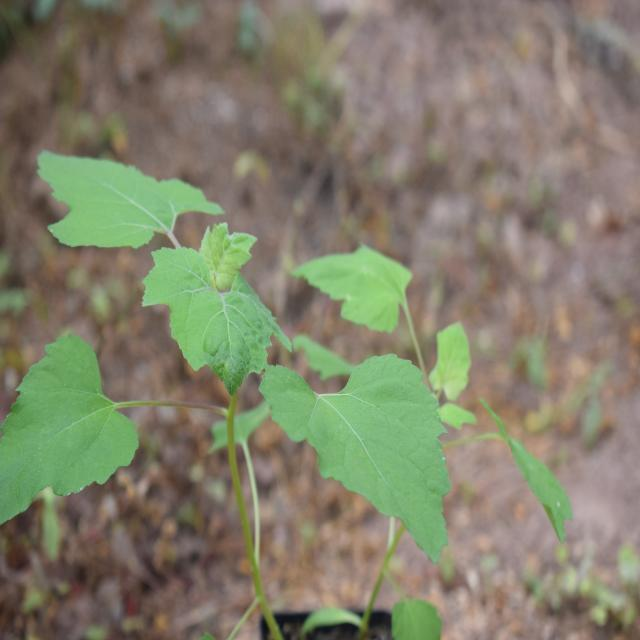cocklebur: (11, 142, 448, 550)
